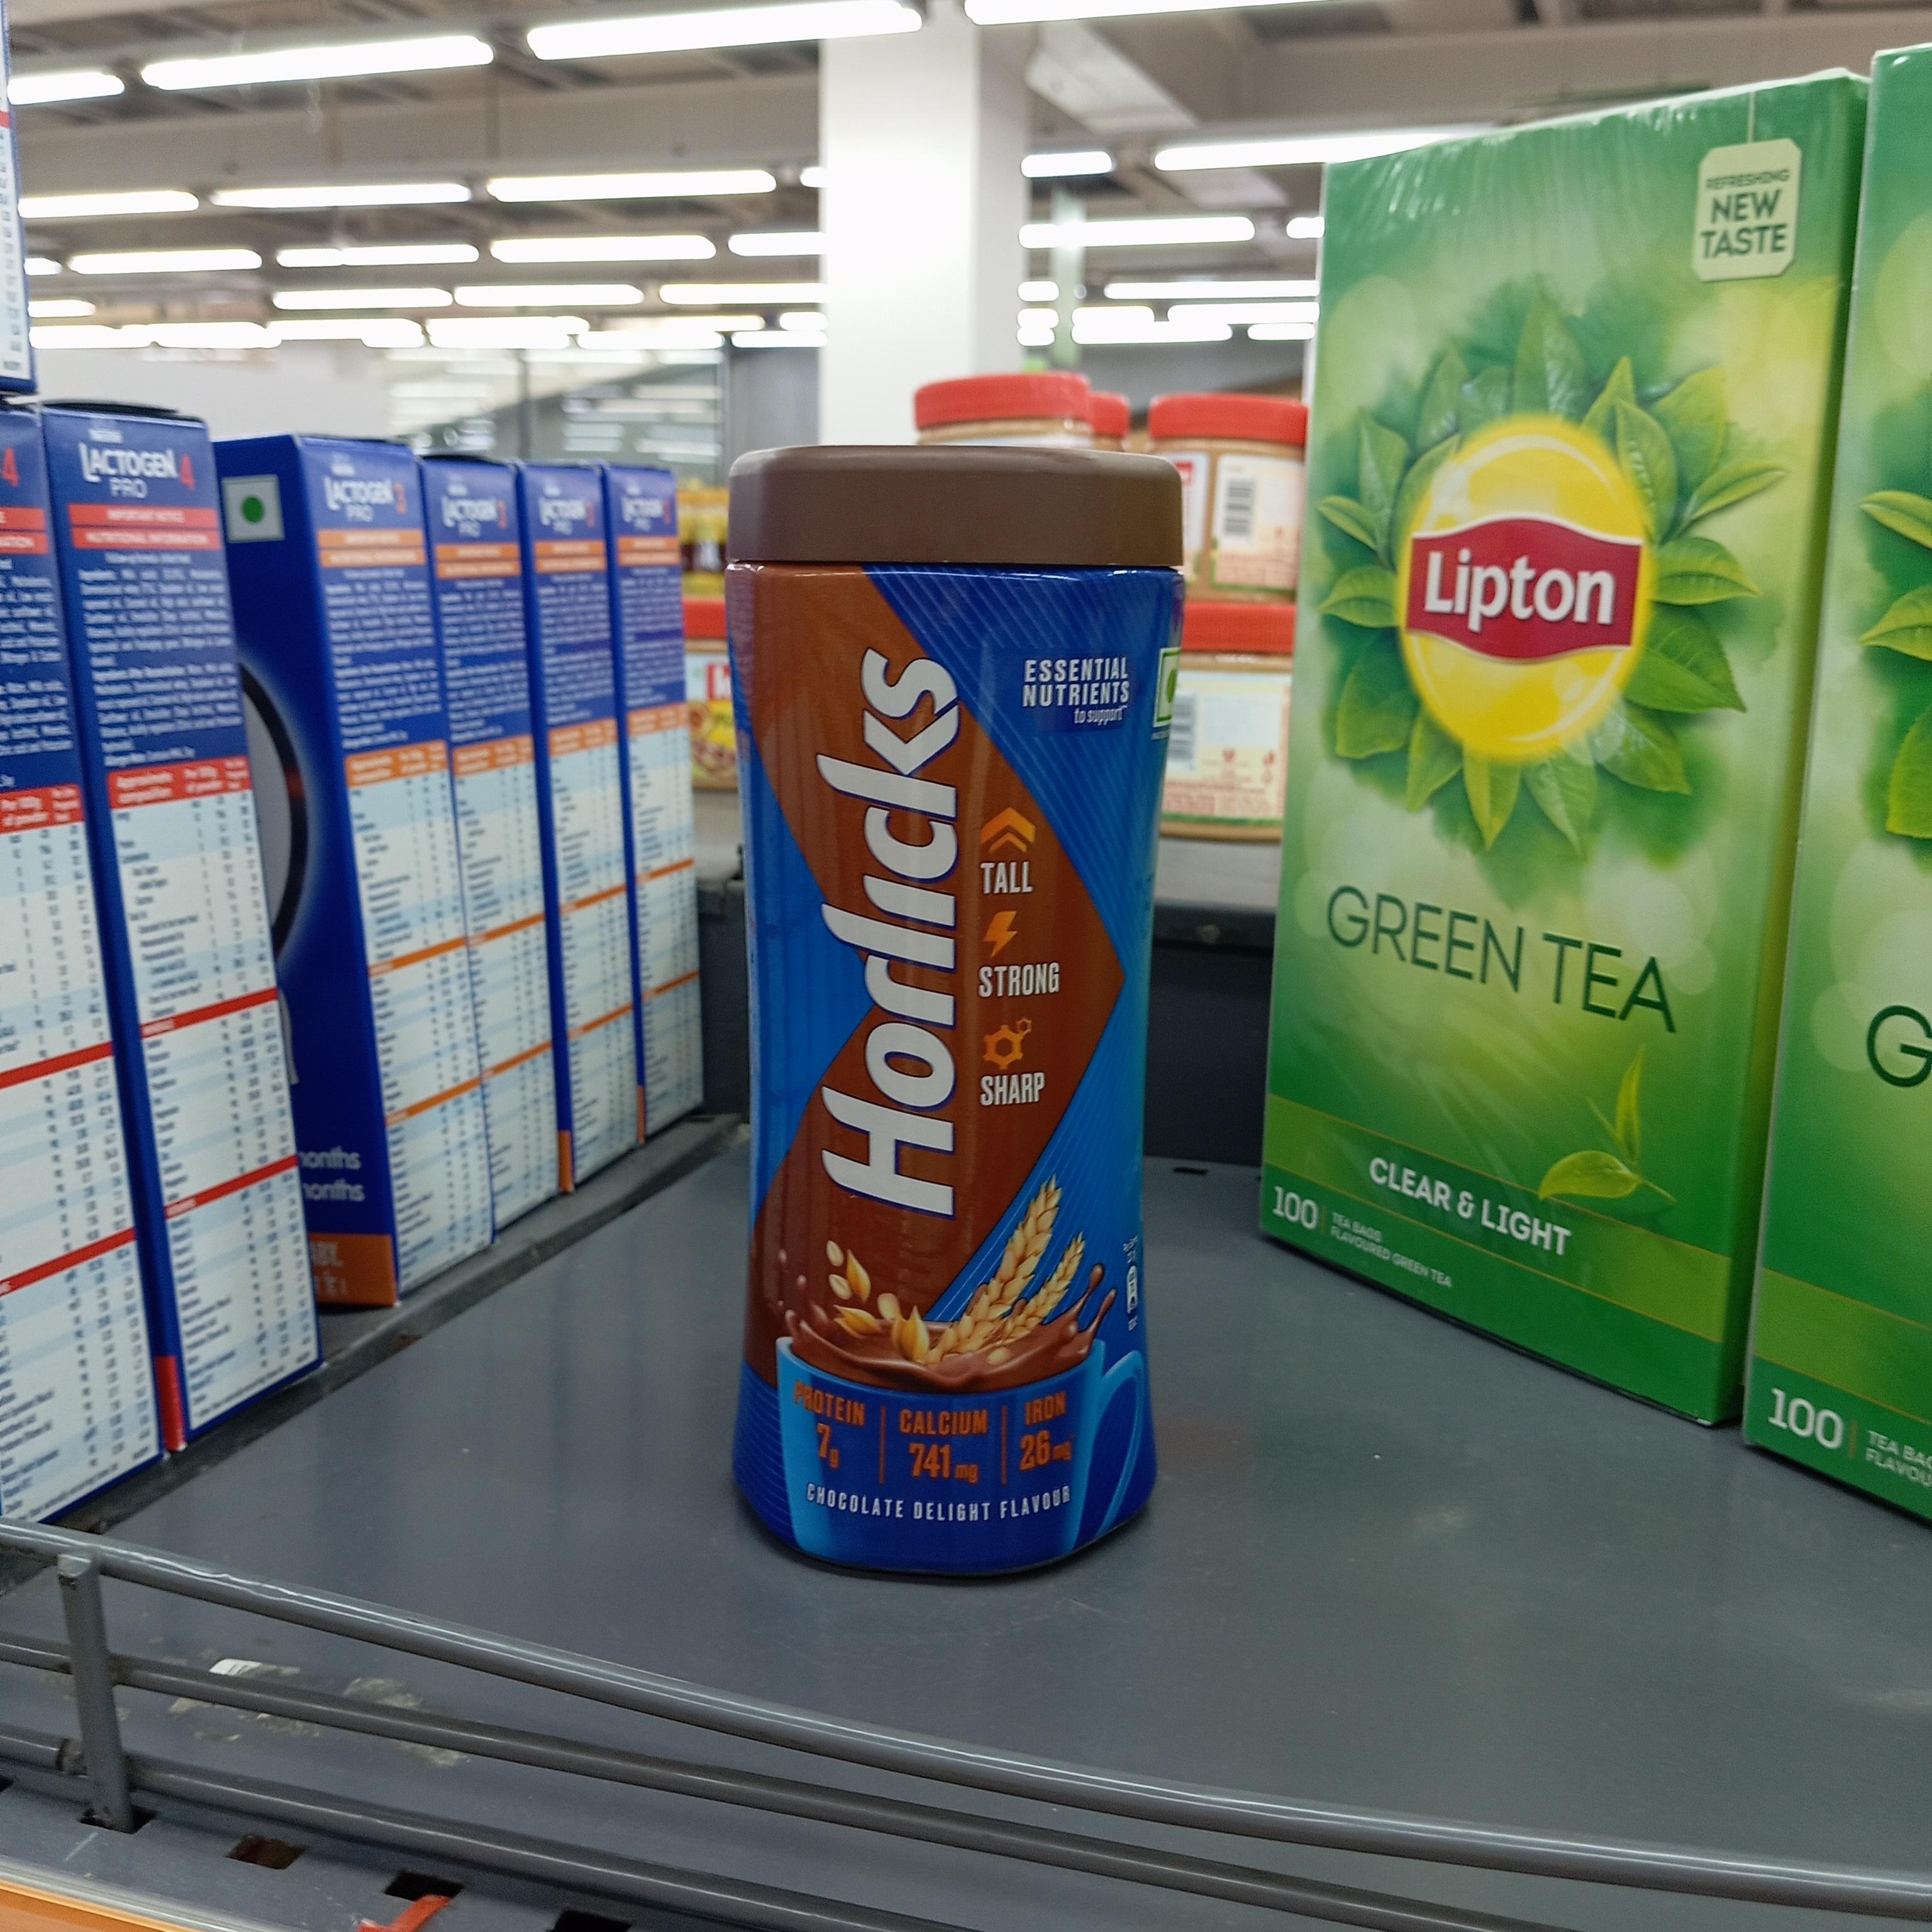HORLICK_CHOCOLATE_500_G_JAR: (717, 428, 1152, 1591)
